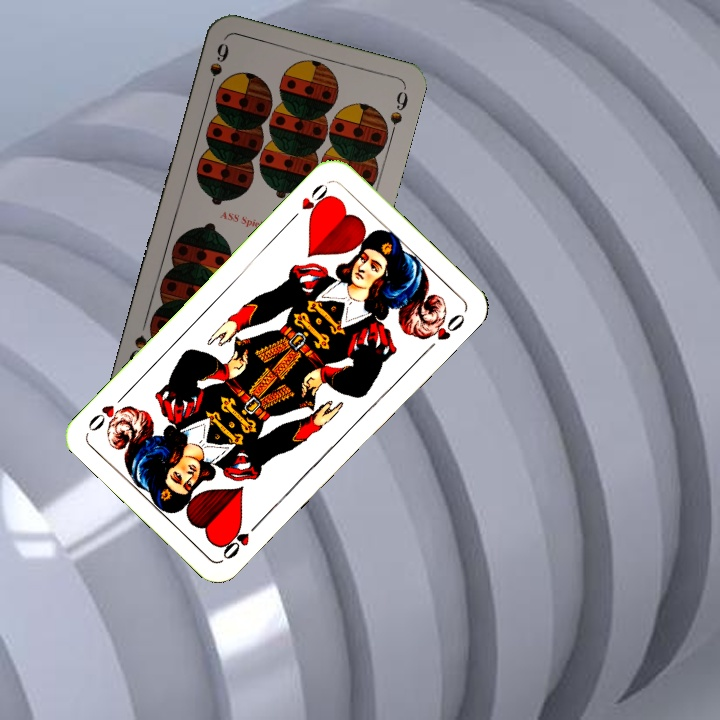HO: (286, 177, 334, 224), (218, 515, 264, 562)
S9: (204, 39, 232, 96)
